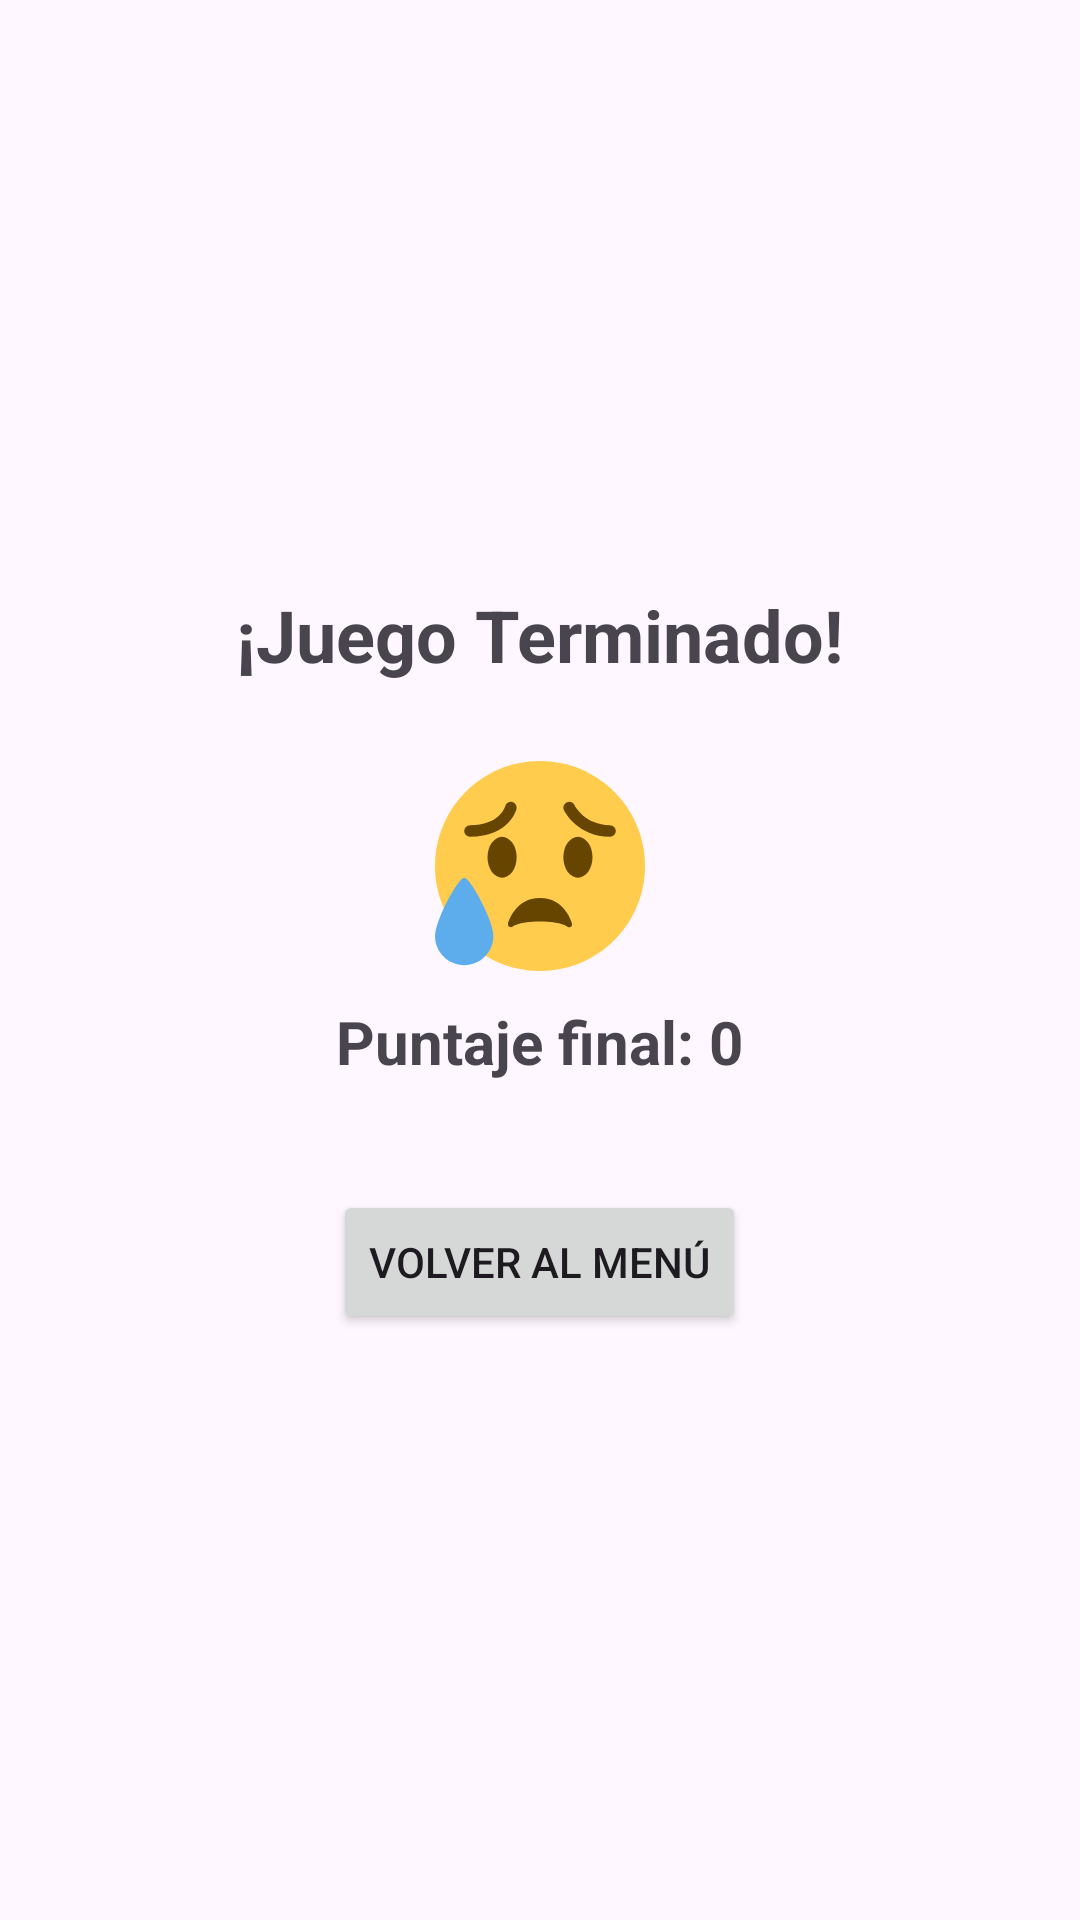

Icon click points for this 1080w x 1920h phone screenshot, format point (x, y):
loser: point (540, 866)
